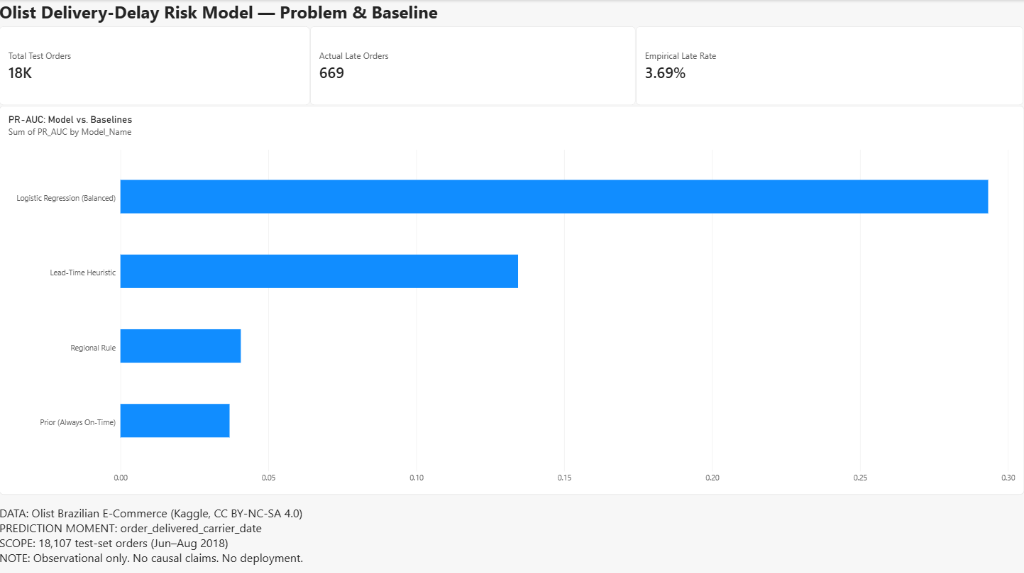

The page's visual inventory and layout, read from the dashboard file:
{"tool":"powerbi","page":{"name":"1 - Problem & Baseline","canvas":[1920,1080],"ordinal":0},"visuals":[{"type":"textbox","box":[0,0,876.5,50.1],"z":0},{"type":"cardVisual","fields":{"Data":["_Measures.Total Test Orders"]},"box":[0,49.6,582.9,148.8],"z":1},{"type":"cardVisual","fields":{"Data":["_Measures.Actual Late Orders"]},"box":[582.9,49.6,610.2,148.8],"z":2},{"type":"cardVisual","fields":{"Data":["_Measures.Empirical Late Rate"]},"box":[1193.2,49.6,726.8,148.8],"z":3},{"type":"clusteredBarChart","title":"PR-AUC: Model vs. Baselines ","fields":{"Category":["dim_baseline_comparison.Model_Name"],"Y":["Sum(dim_baseline_comparison.PR_AUC)"]},"box":[0,198.2,1920.6,728.9],"z":4},{"type":"textbox","box":[0,927,1920.6,153],"z":5}]}

Visuals, with their boxes in screenshot pixels (x1, y1, x2, y2), scaled from the page's 1920x1080 canvas onto the 1024x573 screenshot:
textbox: [left=0, top=0, right=467, bottom=27]
cardVisual - _Measures.Total Test Orders: [left=0, top=26, right=311, bottom=105]
cardVisual - _Measures.Actual Late Orders: [left=311, top=26, right=636, bottom=105]
cardVisual - _Measures.Empirical Late Rate: [left=636, top=26, right=1023, bottom=105]
"PR-AUC: Model vs. Baselines " clusteredBarChart: [left=0, top=105, right=1023, bottom=492]
textbox: [left=0, top=492, right=1023, bottom=572]
